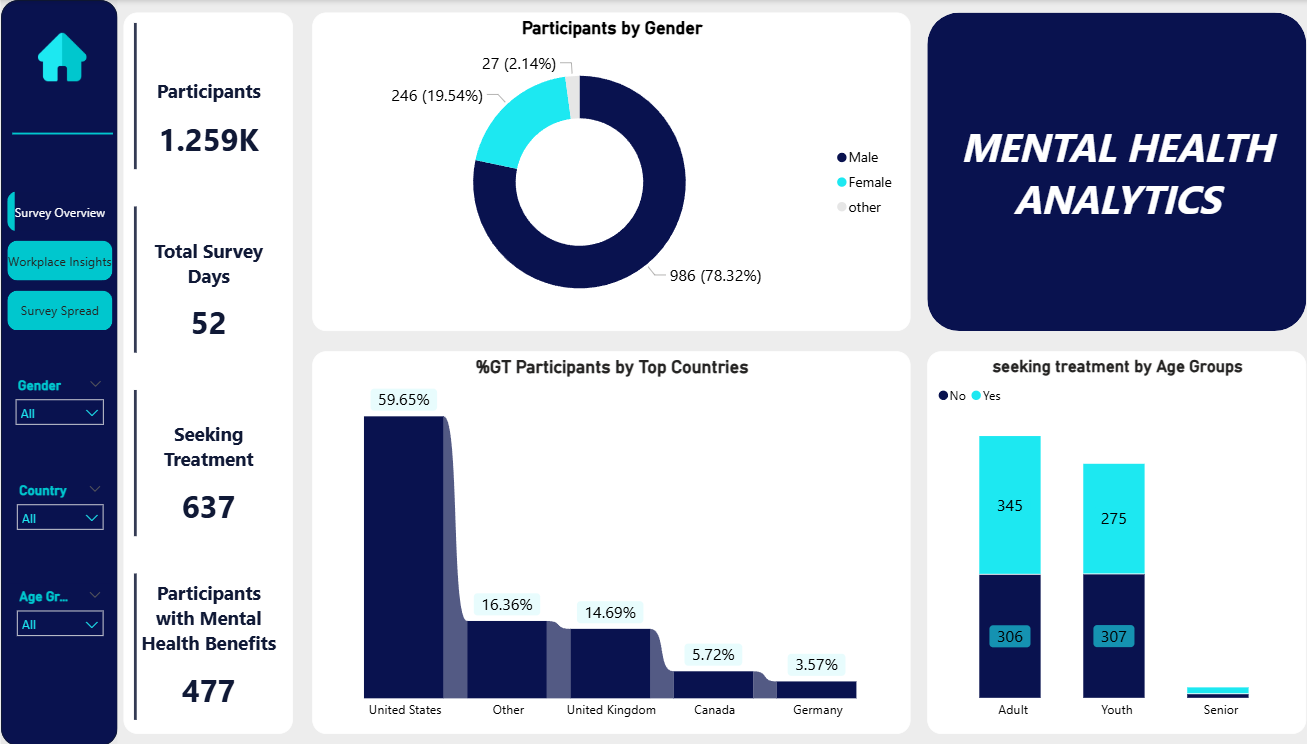

This screenshot's page, from the dashboard's own definition file:
{"tool":"powerbi","page":{"name":"Survey Overview","canvas":[1410,800],"ordinal":0},"visuals":[{"type":"columnChart","fields":{"Y":["MeasuresTable.Participants"],"Category":["survey.Top Countries "]},"box":[333.3,376.7,641.7,410],"z":1000},{"type":"donutChart","fields":{"Y":["MeasuresTable.Participants"],"Category":["survey.Gender"]},"box":[333.3,13.3,641.7,341.7],"z":2000},{"type":"columnChart","title":"seeking treatment by Age Groups ","fields":{"Series":["survey.treatment"],"Category":["survey.Age Groups"],"Y":["MeasuresTable.Participants"]},"box":[993.3,376.7,406.7,410],"z":2500},{"type":"cardVisual","fields":{"Data":["MeasuresTable.Participants","MeasuresTable.Total Survey Days","MeasuresTable.Participants Seeking Treatment","MeasuresTable.Participants with Mental Health Benefits"]},"box":[131.7,13.3,181.7,773.3],"z":3000},{"type":"shape","box":[0,0,125,800],"z":4000,"group":"g1"},{"type":"image","box":[35,0,61.7,121.7],"z":5000,"group":"g1"},{"type":"slicer","fields":{"Values":["survey.Gender"]},"box":[5,400,115,76.7],"z":6000,"group":"g1"},{"type":"shape","box":[993.3,13.3,406.7,341.7],"z":7000,"group":"g1"},{"type":"shape","box":[11.7,103.3,108.3,80],"z":8000,"group":"g1"},{"type":"pageNavigator","box":[6.7,205,113.3,150],"z":9000,"group":"g1"},{"type":"slicer","fields":{"Values":["survey.Country"]},"box":[6.7,511.7,113.3,76.7],"z":10000,"group":"g1"},{"type":"slicer","fields":{"Values":["survey.Age Groups"]},"box":[6.7,626.7,113.3,76.7],"z":11000,"group":"g1"},{"type":"group","id":"g1","title":"Side Bar","box":[0,0,1400,800],"z":11001}]}

Visuals, with their boxes in screenshot pixels (x1, y1, x2, y2), scaled from the page's 1410x800 canvas onto the 1307x744 screenshot:
columnChart - MeasuresTable.Participants x survey.Top Countries : [309,350,904,732]
donutChart - MeasuresTable.Participants x survey.Gender: [309,12,904,330]
"seeking treatment by Age Groups " columnChart: [921,350,1298,732]
cardVisual - MeasuresTable.Participants x MeasuresTable.Total Survey Days: [122,12,291,732]
shape: [0,0,116,743]
image: [32,0,90,113]
slicer - survey.Gender: [5,372,111,443]
shape: [921,12,1298,330]
shape: [11,96,111,170]
pageNavigator: [6,191,111,330]
slicer - survey.Country: [6,476,111,547]
slicer - survey.Age Groups: [6,583,111,654]
"Side Bar" group: [0,0,1298,743]
